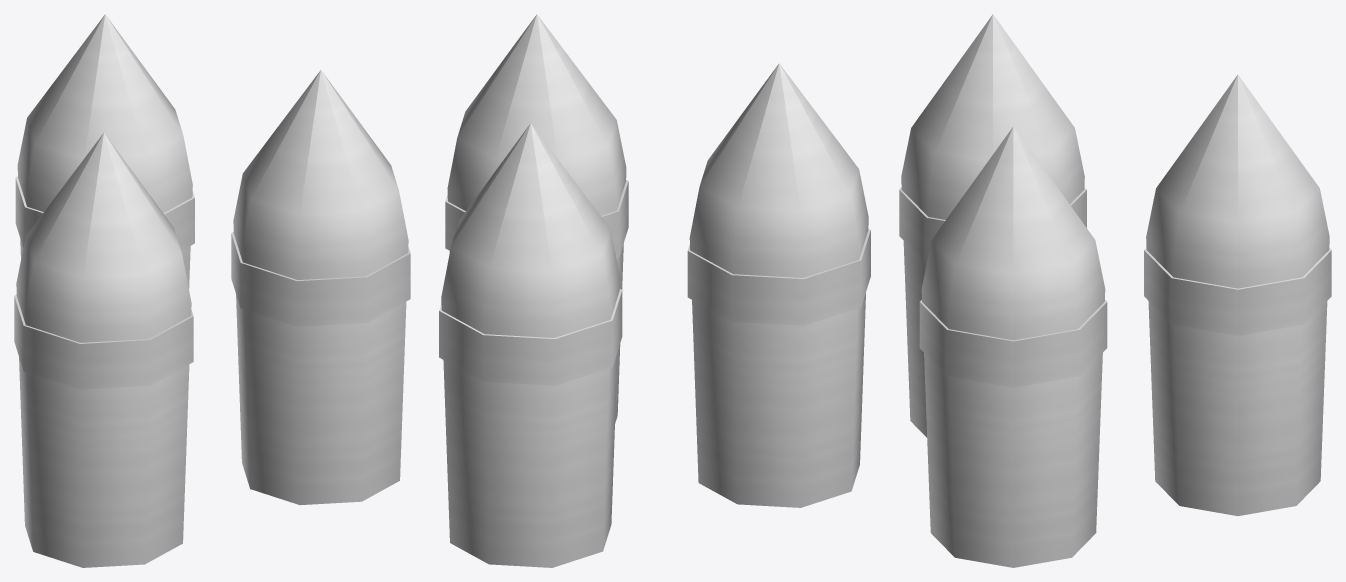
File: shells_he.obj
3 renders of one model, left to right at view 1: azimuth 30°, elevation 25°; view 2: azimuth 150°, elevation 25°; view 3: azimuth 270°, elevation 25°, orthographic. The views are drawn at different scales.
Visible parts, largest first — view 1: part_000_shell_olive, part_035_shell_olive, part_070_shell_olive, part_052_paint_red, part_017_paint_red, part_087_paint_red; view 2: part_000_shell_olive, part_070_shell_olive, part_035_shell_olive, part_087_paint_red, part_017_paint_red, part_052_paint_red; view 3: part_035_shell_olive, part_070_shell_olive, part_000_shell_olive, part_052_paint_red, part_087_paint_red, part_017_paint_red.
Boxes of the visible parts, box(x1,y1,x2,y2) form: part_000_shell_olive: box(16, 133, 191, 567); part_035_shell_olive: box(233, 70, 408, 505); part_070_shell_olive: box(17, 14, 192, 288); part_052_paint_red: box(231, 232, 410, 326); part_017_paint_red: box(14, 295, 193, 389); part_087_paint_red: box(15, 176, 194, 250); part_000_shell_olive: box(689, 63, 868, 507); part_070_shell_olive: box(441, 123, 620, 567); part_035_shell_olive: box(447, 14, 626, 423); part_087_paint_red: box(439, 289, 622, 385); part_017_paint_red: box(687, 229, 870, 325); part_052_paint_red: box(445, 180, 628, 258); part_035_shell_olive: box(921, 126, 1105, 567); part_070_shell_olive: box(1146, 75, 1329, 516); part_000_shell_olive: box(901, 14, 1084, 437); part_052_paint_red: box(919, 300, 1107, 387); part_087_paint_red: box(1144, 248, 1331, 335); part_017_paint_red: box(899, 187, 1086, 263).
Bounding box in the file's own units: 0.444 × 0.44 × 0.424.
